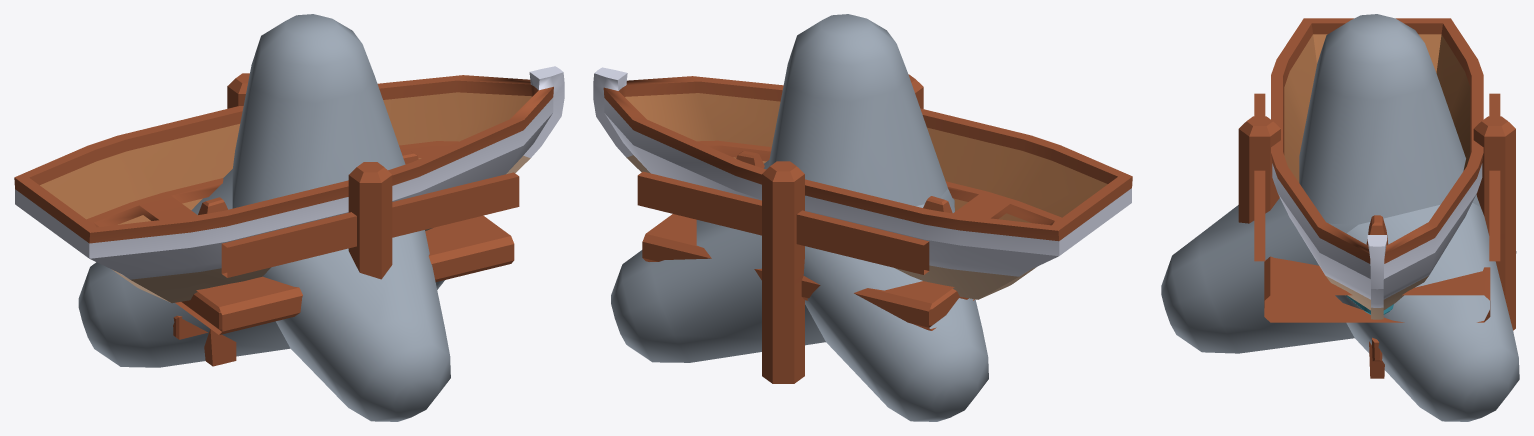
The picture shows the model from 3 angles, left to right: view 1: azimuth 30°, elevation 25°; view 2: azimuth 150°, elevation 25°; view 3: azimuth 270°, elevation 25°; orthographic projection. The views are drawn at different scales.
Parts seen in each view (by area): view 1: Tetrapod, Boar, BridgeFence_Edge, BridgeFence_Middle, Fence, Bridge_Edge; view 2: Tetrapod, Boar, BridgeFence_Edge, BridgeFence_Middle, Fence, Bridge_Edge; view 3: Tetrapod, Boar, BridgeFence_Edge, BridgeFence_Middle, Fence.
Part boxes in pixels (<box>): Tetrapod: <box>78,14,450,421</box>; Boar: <box>14,66,564,303</box>; BridgeFence_Edge: <box>181,73,519,333</box>; BridgeFence_Middle: <box>175,88,514,334</box>; Fence: <box>173,151,418,366</box>; Bridge_Edge: <box>353,248,392,278</box>; Tetrapod: <box>611,14,988,421</box>; Boar: <box>593,67,1132,299</box>; BridgeFence_Edge: <box>637,74,968,383</box>; BridgeFence_Middle: <box>642,88,974,330</box>; Fence: <box>736,151,952,213</box>; Bridge_Edge: <box>762,249,803,280</box>; Tetrapod: <box>1161,14,1519,421</box>; Boar: <box>1271,18,1483,319</box>; BridgeFence_Edge: <box>1238,116,1515,330</box>; BridgeFence_Middle: <box>1254,93,1500,319</box>; Fence: <box>1366,215,1388,378</box>.
Size of the model in its own units: 349 by 222 by 219.
